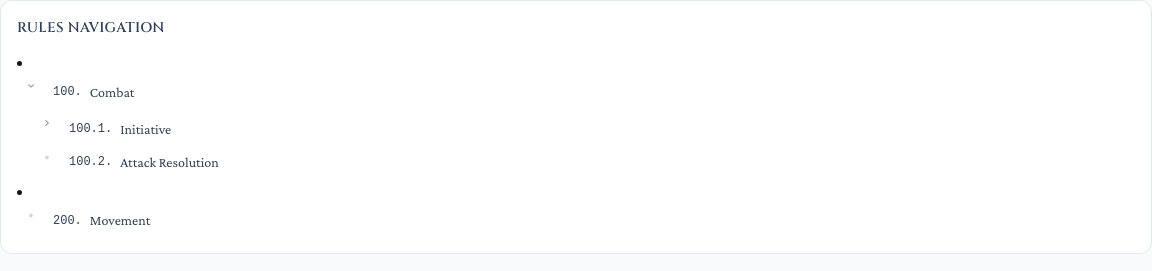
Scenario: RuleTree › Expand/Collapse › should collapse children when expand button clicked
This screenshot has width=1152, height=271.
Check: the text "Initiative" is shown, box x1=120 y1=121 x2=171 y2=137
Click the button named "Collapse Combat": (31,86) x1=21 y1=76 x2=41 y2=96
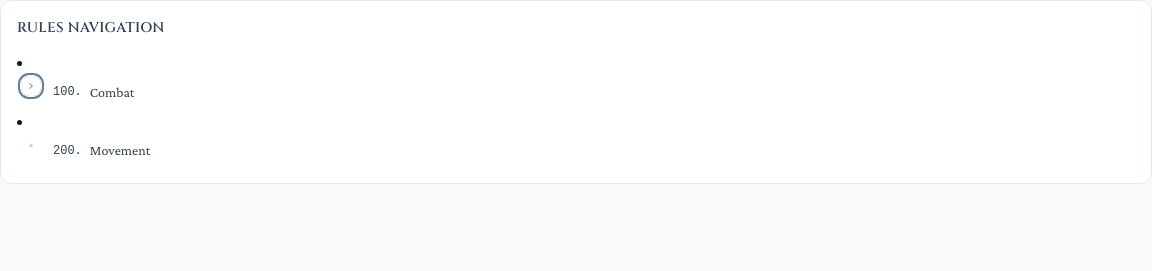
Check: the button "Initiative" is gone
